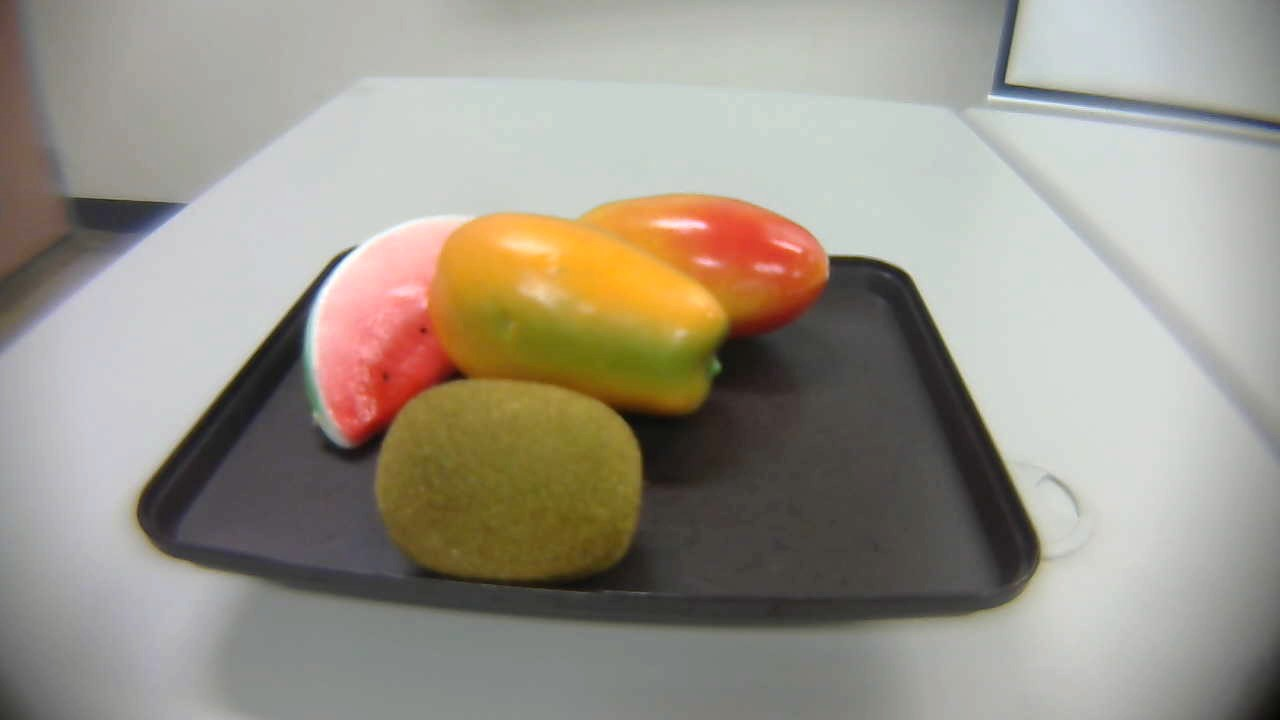kiwi fruit: (357, 364, 671, 602)
papya: (435, 217, 725, 424)
red mango: (571, 180, 832, 358)
water melon: (274, 205, 512, 447)
